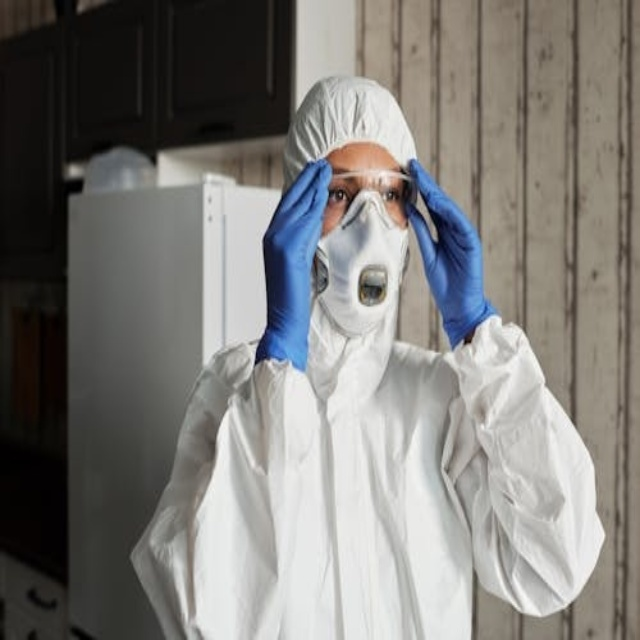Gafas: (327, 168, 419, 215)
Guantes: (403, 158, 498, 352), (257, 158, 334, 373)
Mascara: (314, 185, 410, 336)
